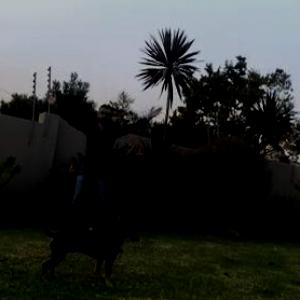takeoff: (46, 93, 164, 229)
